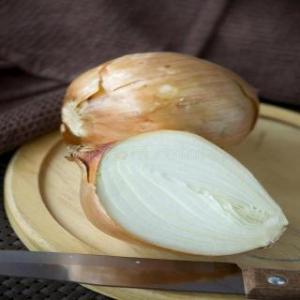onion: (74, 130, 290, 260), (55, 48, 265, 164)
